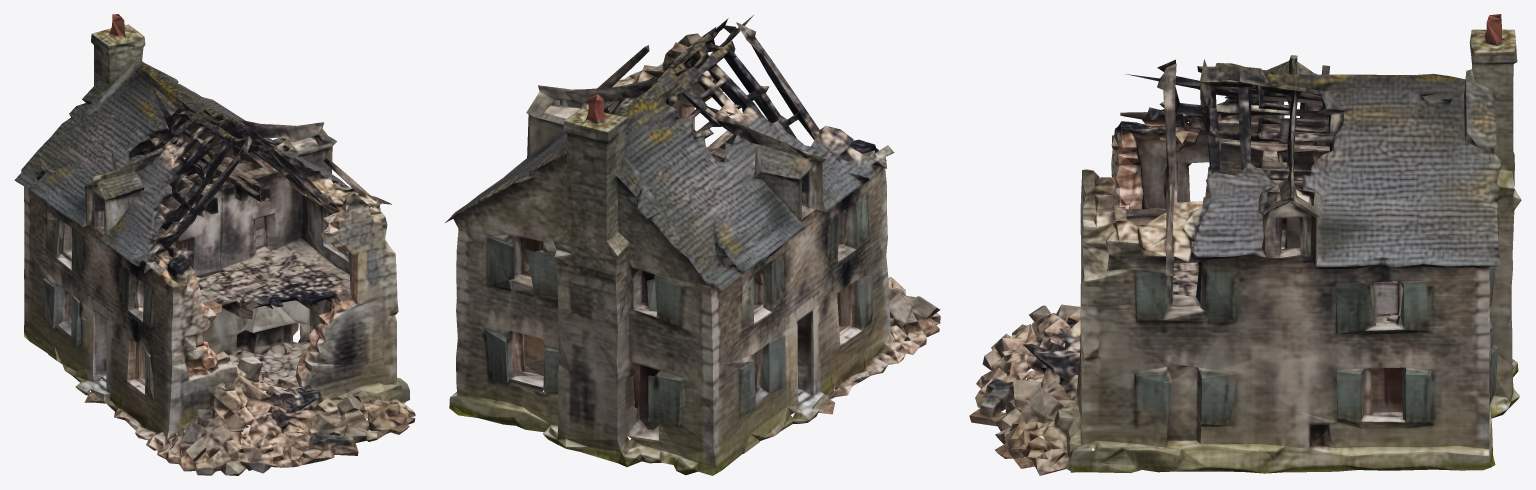
File: house_ruin.glb
3 renders of one model, left to right at view 1: azimuth 30°, elevation 25°; view 2: azimuth 150°, elevation 25°; view 3: azimuth 270°, elevation 25°, orthographic. The views are drawn at different scales.
Parts seen in each view (by area): view 1: geometry_0; view 2: geometry_0; view 3: geometry_0.
Boxes of the visible parts, box(x1,y1,x2,y2) form: geometry_0: box(14, 14, 415, 475); geometry_0: box(445, 15, 940, 475); geometry_0: box(969, 14, 1521, 475).
Bounding box in the file's own units: 0.7036 × 0.7709 × 1.
1 material, 1 textured.
